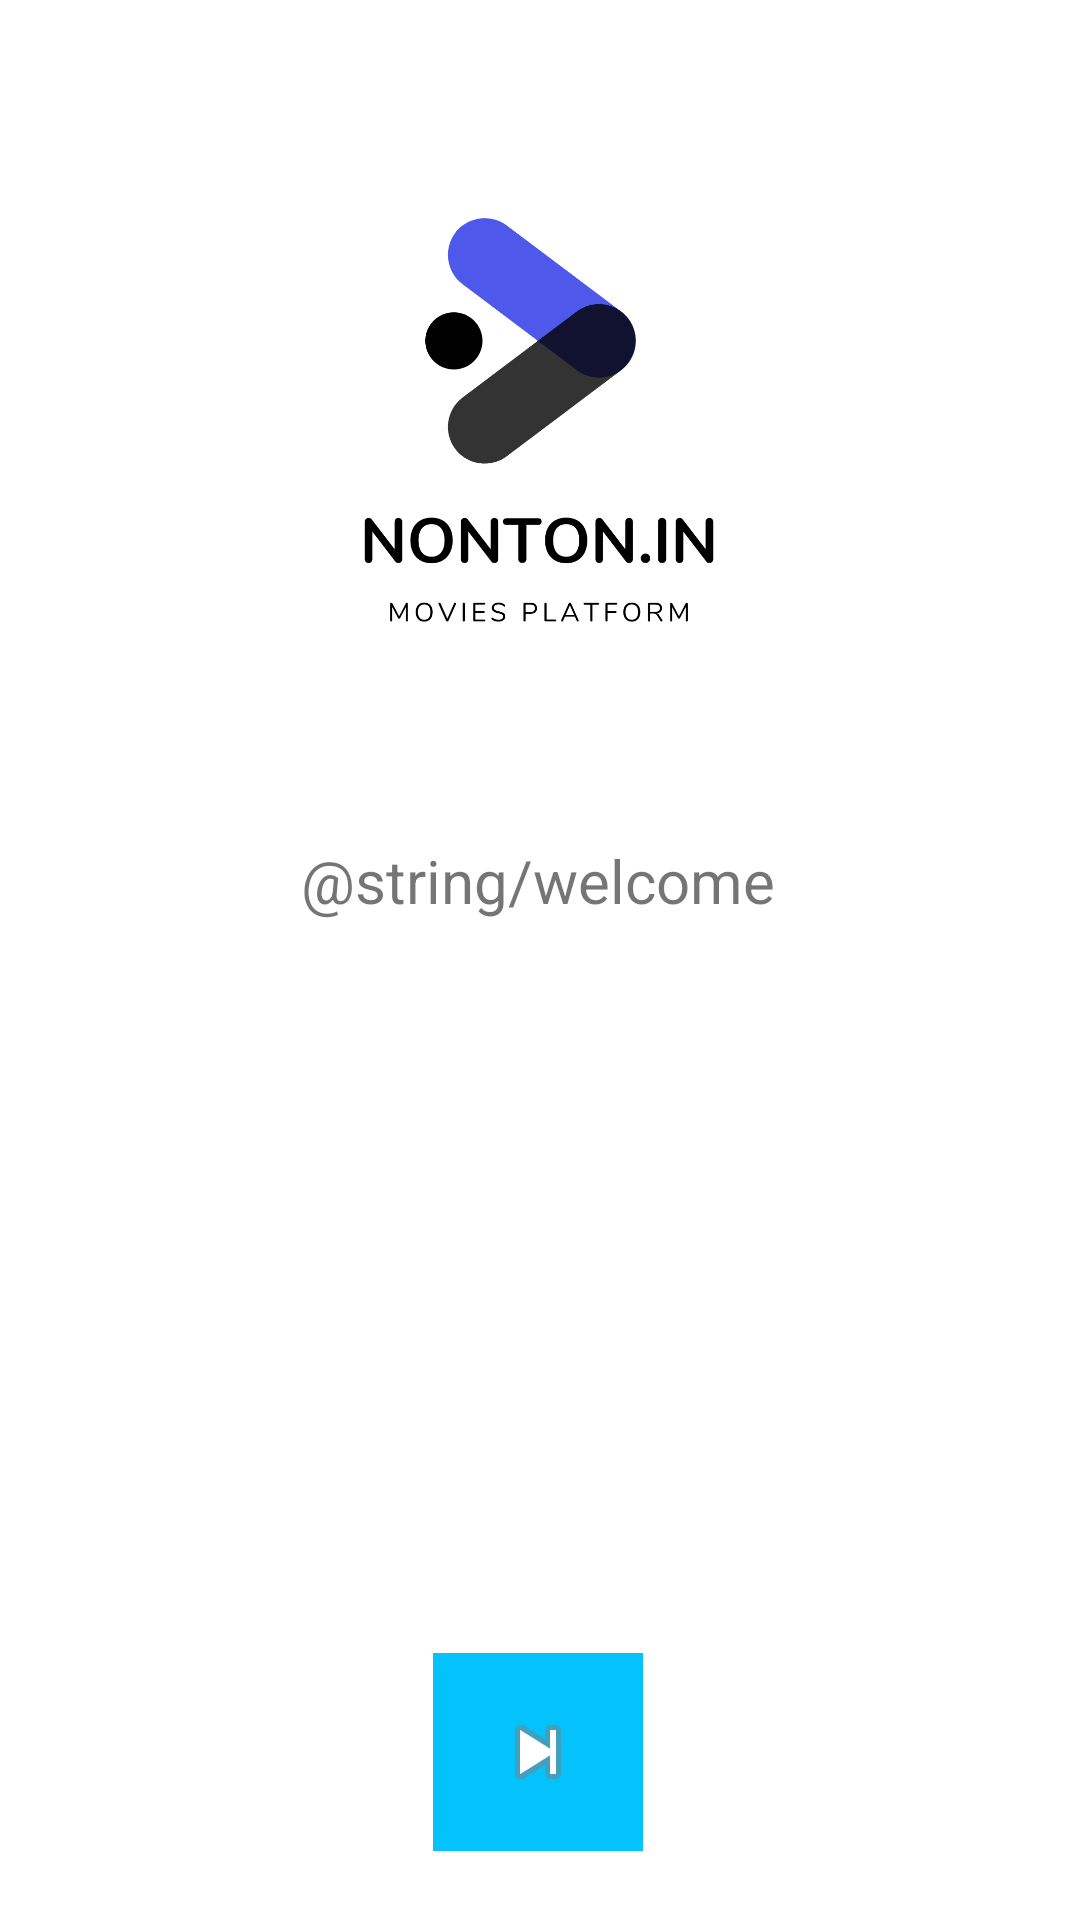

Icons on this 1080x1920 Android screen, each with its box as (x1, y1, x2, y2):
next: (433, 1653, 643, 1851)
